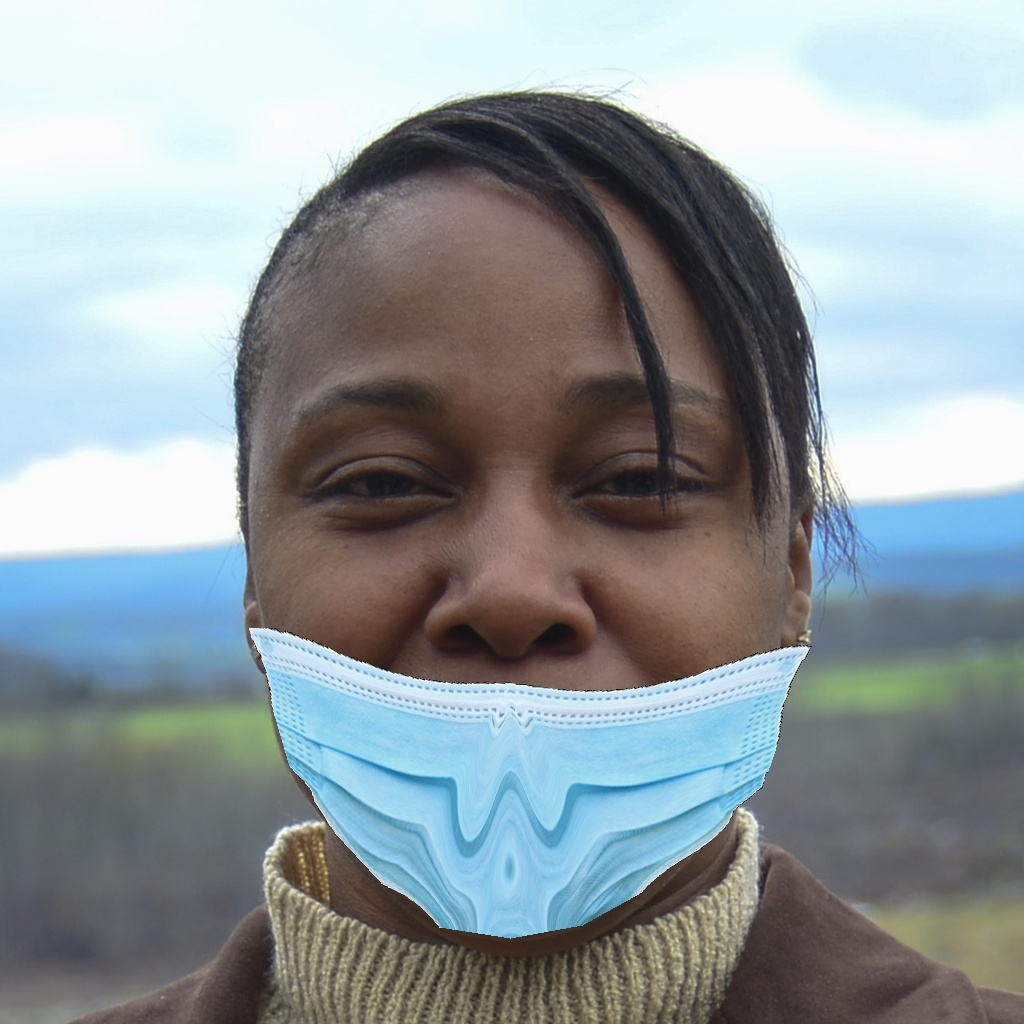mascarilla_mal_puesta: (227, 350, 804, 933)
